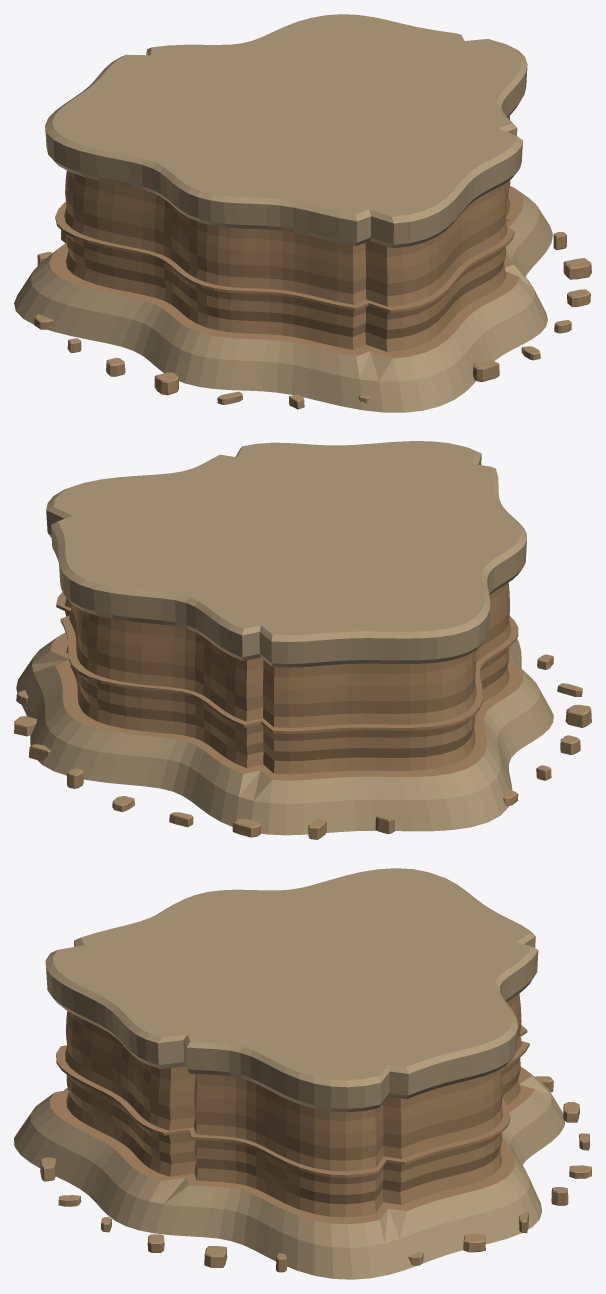
File: mesa_cap.glb
The picture shows the model from 3 angles, top to bottom: view 1: azimuth 30°, elevation 25°; view 2: azimuth 150°, elevation 25°; view 3: azimuth 270°, elevation 25°; orthographic projection. The views are drawn at different scales.
Visible parts, largest first — view 1: mesa_cap_rock, mesa_talus_23; view 2: mesa_cap_rock, mesa_talus_14; view 3: mesa_cap_rock.
Boxes of the visible parts, x1,y1,x2,y2 form: mesa_cap_rock: (14, 14, 552, 412); mesa_talus_23: (563, 258, 591, 279); mesa_cap_rock: (16, 441, 553, 835); mesa_talus_14: (565, 704, 591, 727); mesa_cap_rock: (14, 868, 564, 1279).
Size of the model in its own units: 40 by 14 by 40.
